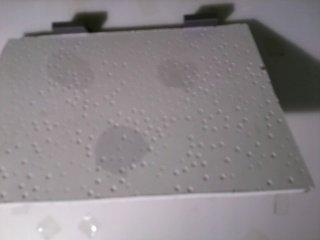Water_detected: (104, 126, 145, 167), (175, 70, 195, 89), (77, 73, 91, 86)
